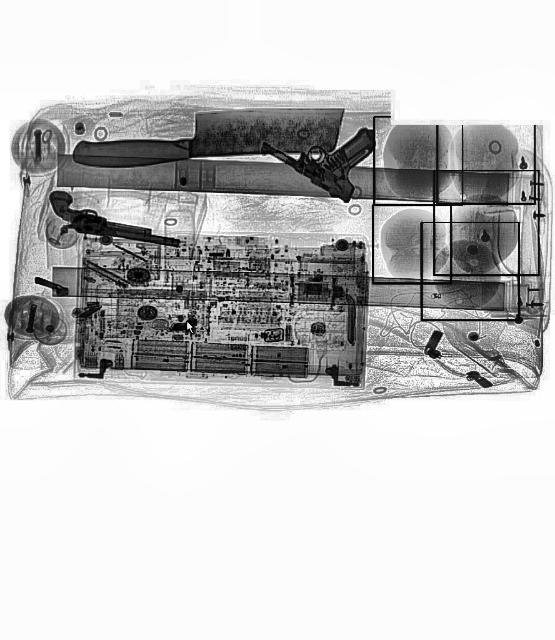Gun: (255, 80, 384, 206), (45, 190, 183, 250)
Knife: (70, 106, 344, 168)
